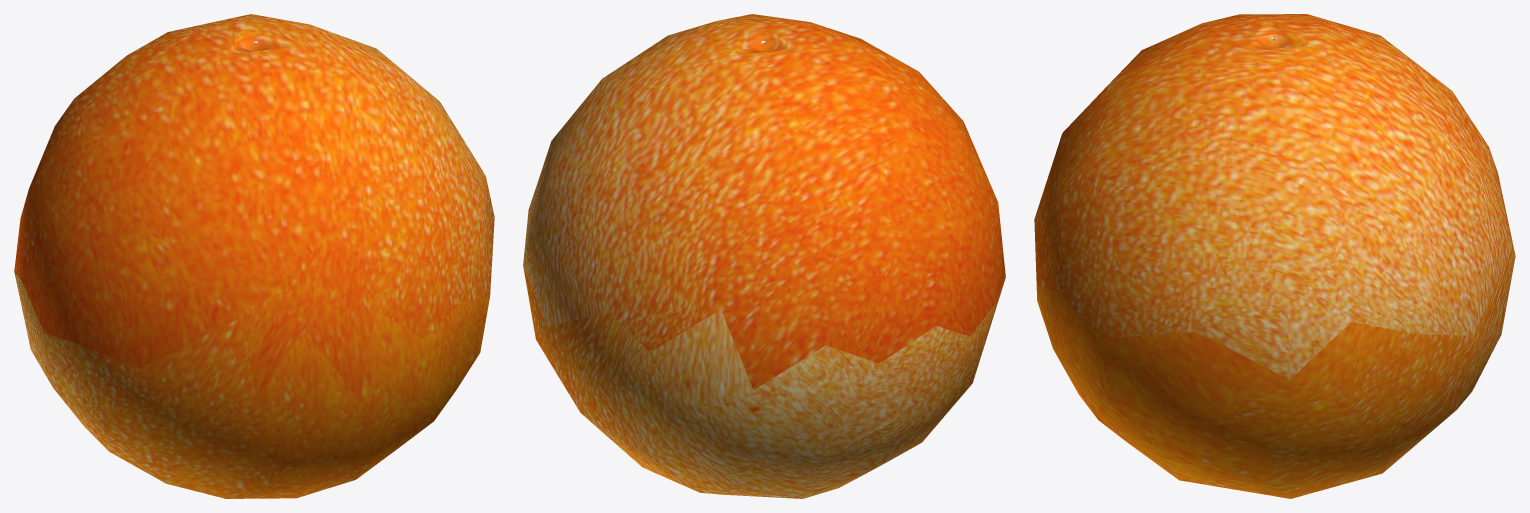
Rendered from orange.obj.
The picture shows the model from 3 angles, left to right: view 1: azimuth 30°, elevation 25°; view 2: azimuth 150°, elevation 25°; view 3: azimuth 270°, elevation 25°; orthographic projection.
Parts seen in each view (by area): view 1: orange; view 2: orange; view 3: orange.
Part boxes in pixels (x1=…): orange: x1=14, y1=14, x2=494, y2=498; orange: x1=523, y1=14, x2=1005, y2=498; orange: x1=1034, y1=14, x2=1515, y2=498.
Size of the model in its own units: 0.1254 by 0.1235 by 0.1251.
